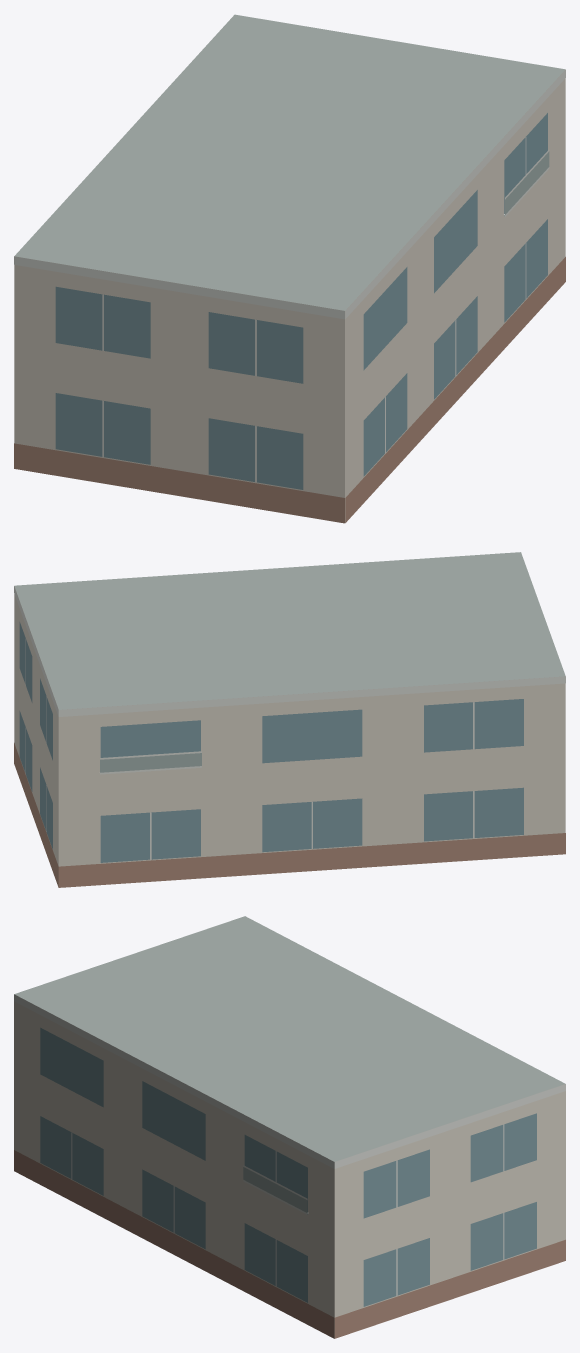
Rendered from survey-upis-32806795.glb.
3 renders of one model, top to bottom at view 1: azimuth 30°, elevation 25°; view 2: azimuth 150°, elevation 25°; view 3: azimuth 270°, elevation 25°, orthographic. The views are drawn at different scales.
Parts seen in each view (by area): view 1: survey-upis-32806795.tmp; view 2: survey-upis-32806795.tmp; view 3: survey-upis-32806795.tmp.
Boxes of the visible parts, x1,y1,x2,y2 form: survey-upis-32806795.tmp: (14, 14, 565, 523); survey-upis-32806795.tmp: (14, 552, 565, 887); survey-upis-32806795.tmp: (14, 916, 565, 1338).
Bounding box in the file's own units: 18.2 × 6.1 × 17.25.
